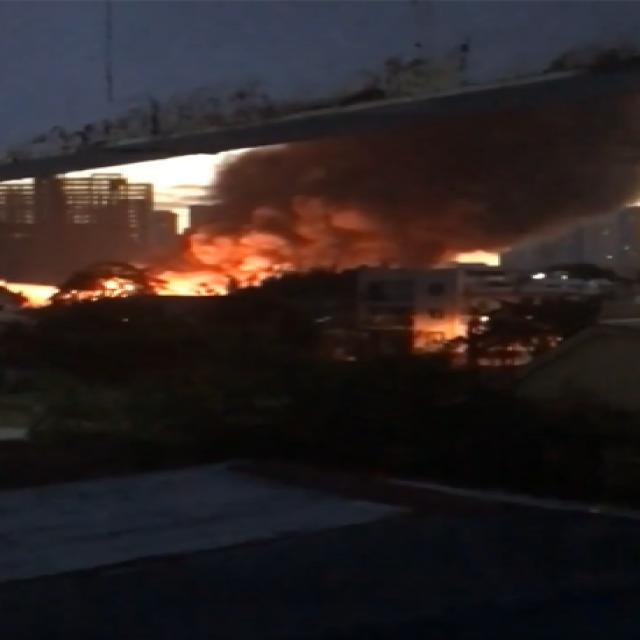Fire: (150, 274, 251, 296), (0, 282, 57, 312)
Smoke: (142, 87, 640, 278)
